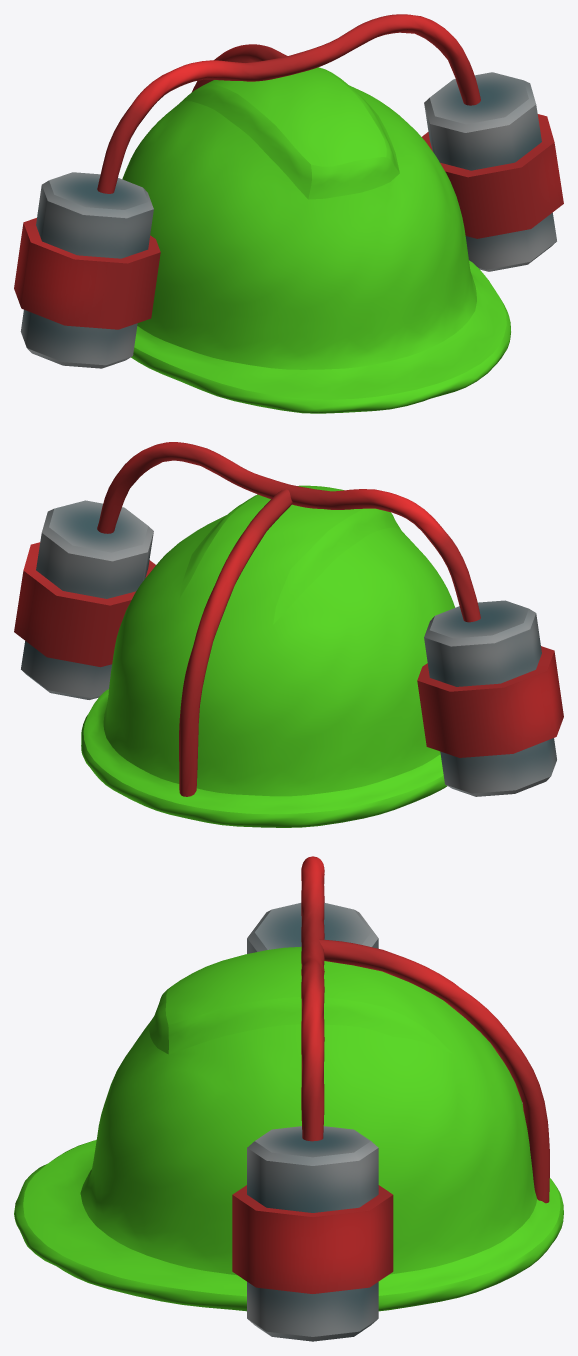
File: BeerHat.fbx
The picture shows the model from 3 angles, top to bottom: view 1: azimuth 30°, elevation 25°; view 2: azimuth 150°, elevation 25°; view 3: azimuth 270°, elevation 25°; orthographic projection. The views are drawn at different scales.
Visible parts, largest first — view 1: m_BeerHat01; view 2: m_BeerHat01; view 3: m_BeerHat01.
Part boxes in pixels (box(x1,y1,x2,y2)): m_BeerHat01: box(14, 14, 563, 413); m_BeerHat01: box(14, 442, 563, 827); m_BeerHat01: box(14, 856, 563, 1341).
Size of the model in its own units: 710 by 343 by 562.
2 materials, 1 textured.
